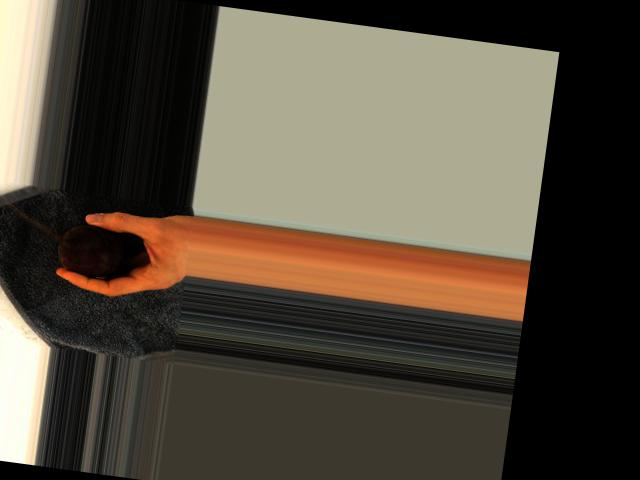beet: (55, 221, 127, 280)
